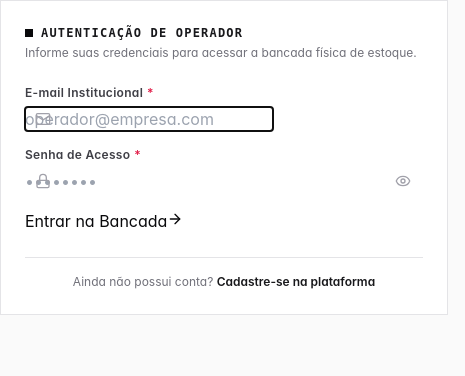
it: LoginForm (FT-05) › impede o envio se o e-mail for inválido ou a senha tiver menos de 8 caracteres
Click the button "Entrar na Bancada" at (104,221), box left=25, top=209, right=183, bottom=233
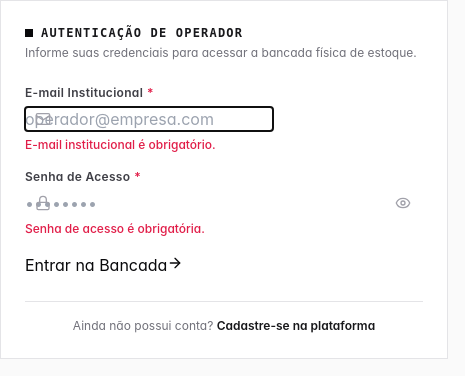
Now the text "E-mail institucional é obrigatório." is shown, box left=25, top=137, right=216, bottom=152
Now the text "Senha de acesso é obrigatória." is shown, box left=25, top=221, right=205, bottom=236
// Testa e-mail inválido
Type "invalido-sem-arroba" into the field labelled "E-mail Institucional*" at (149,119), box left=25, top=107, right=273, bottom=131
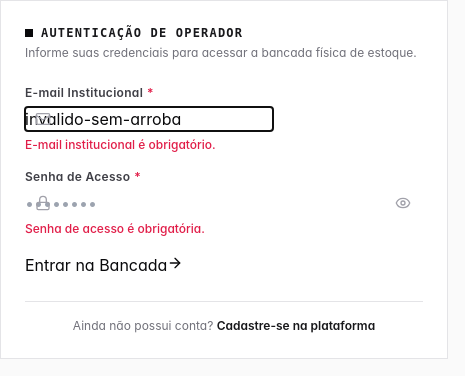
// Testa senha curta
Type "12345" into the password field labelled "Senha de Acesso*" at (149,203), box left=25, top=191, right=273, bottom=215
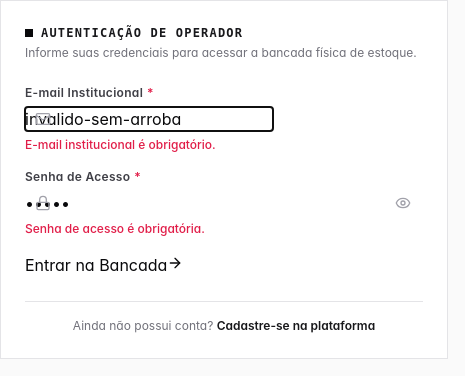
Click the button "Entrar na Bancada" at (104,265), box left=25, top=253, right=183, bottom=277
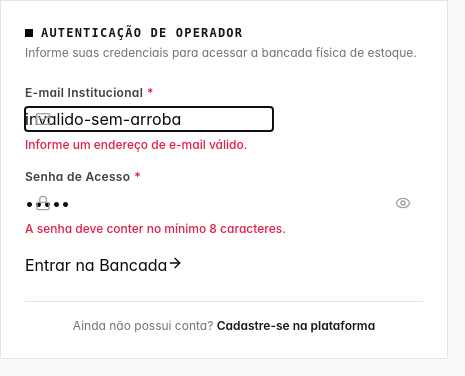
Now the text "Informe um endereço de e-mail válido." is shown, box left=25, top=137, right=247, bottom=152
Now the text "A senha deve conter no mínimo 8 caracteres." is shown, box left=25, top=221, right=286, bottom=236
